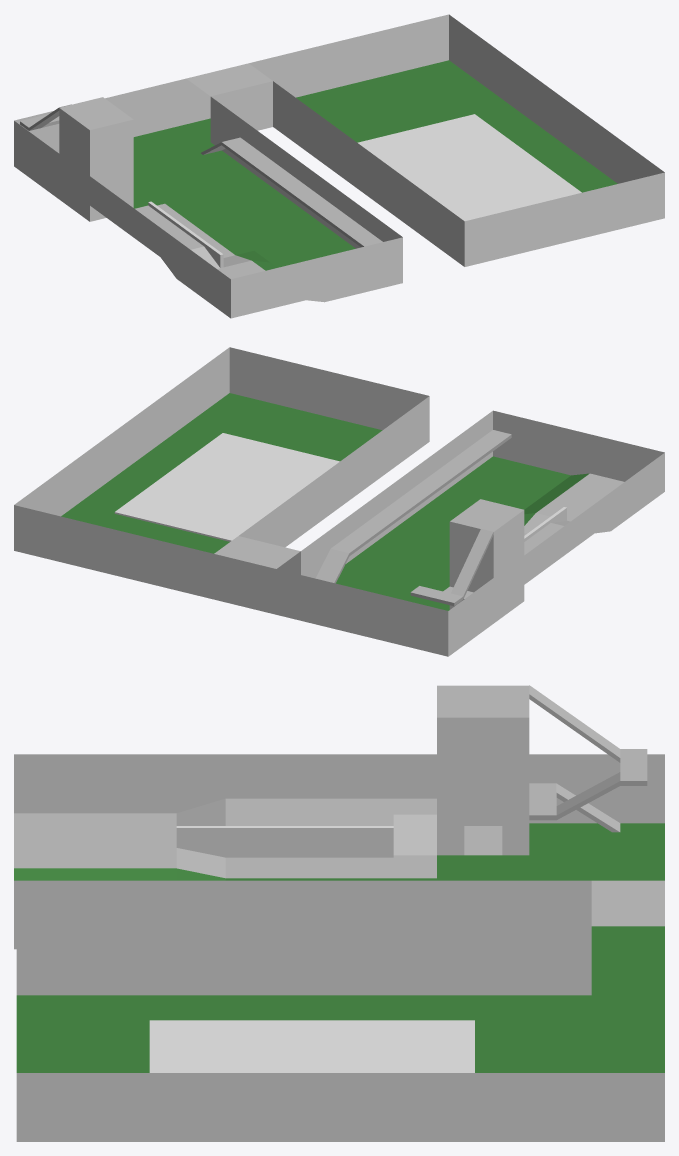
File: testmap.glb
The picture shows the model from 3 angles, top to bottom: view 1: azimuth 30°, elevation 25°; view 2: azimuth 150°, elevation 25°; view 3: azimuth 270°, elevation 25°; orthographic projection. The views are drawn at different scales.
Visible parts, largest first — view 1: Map-col, Slab, Building-col, Platform-col, Stairway-col; view 2: Map-col, Slab, Building-col, Platform-col, Stairway-col; view 3: Map-col, Slab, Building-col, Stairway-col.
Part boxes in pixels (left/top/right/bottom): Map-col: left=14, top=14, right=664, bottom=318; Slab: left=357, top=114, right=581, bottom=221; Building-col: left=59, top=97, right=133, bottom=221; Platform-col: left=201, top=137, right=382, bottom=247; Stairway-col: left=20, top=104, right=71, bottom=130; Map-col: left=14, top=347, right=664, bottom=656; Slab: left=114, top=433, right=339, bottom=541; Building-col: left=449, top=499, right=524, bottom=609; Platform-col: left=315, top=430, right=511, bottom=583; Stairway-col: left=410, top=529, right=493, bottom=605; Map-col: left=14, top=754, right=664, bottom=1141; Slab: left=149, top=1020, right=474, bottom=1072; Building-col: left=437, top=685, right=529, bottom=855; Stairway-col: left=529, top=685, right=647, bottom=832.
Size of the model in its own units: 139 by 28.12 by 120.
